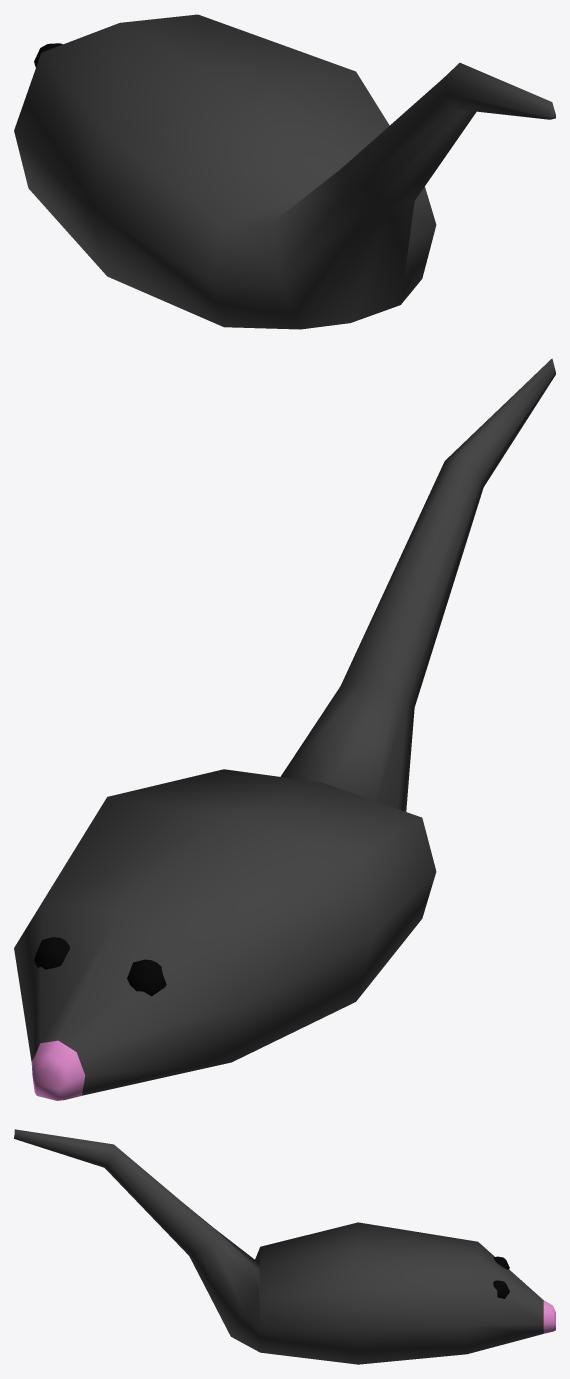
The model's file is mice.fbx.
The picture shows the model from 3 angles, top to bottom: view 1: azimuth 30°, elevation 25°; view 2: azimuth 150°, elevation 25°; view 3: azimuth 270°, elevation 25°; orthographic projection. The views are drawn at different scales.
Parts seen in each view (by area): view 1: Cube; view 2: Cube; view 3: Cube.
Part boxes in pixels (box(x1,y1,x2,y2)): Cube: box(14, 14, 555, 329); Cube: box(14, 358, 555, 1100); Cube: box(14, 1129, 555, 1364).
Size of the model in its own units: 251 by 324 by 773.
